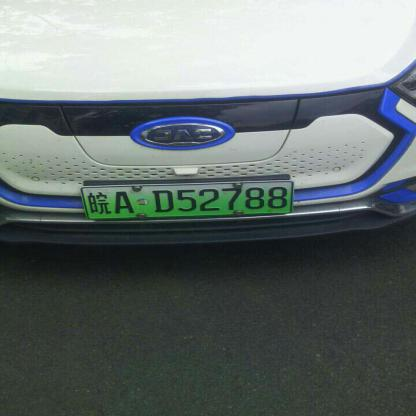lp: (81, 182, 292, 218)
